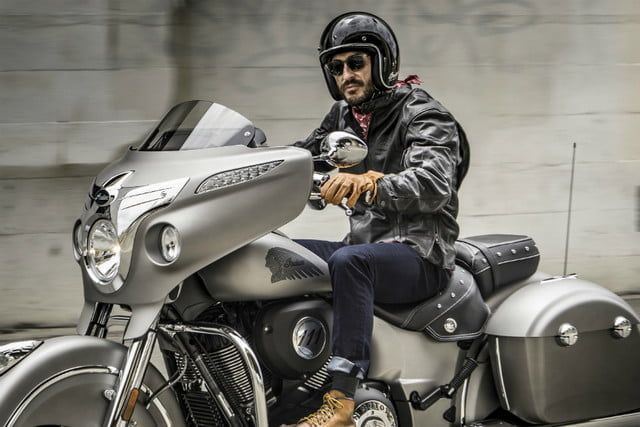with_helmet: (318, 17, 404, 89)
